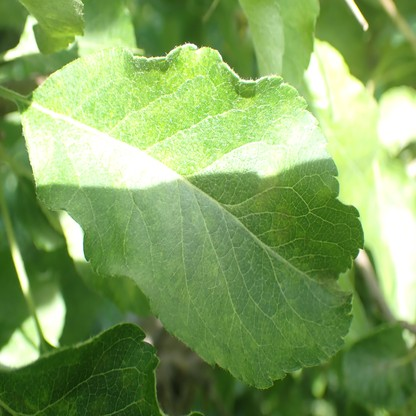scab: (263, 308, 305, 358), (250, 176, 279, 210), (272, 207, 292, 241), (167, 257, 184, 295), (201, 339, 225, 365), (314, 274, 337, 298), (204, 259, 218, 281)
